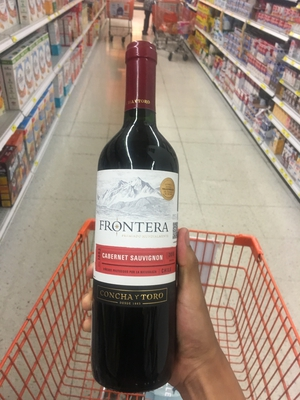frontera cabernet sauvignon: (86, 40, 182, 378)
